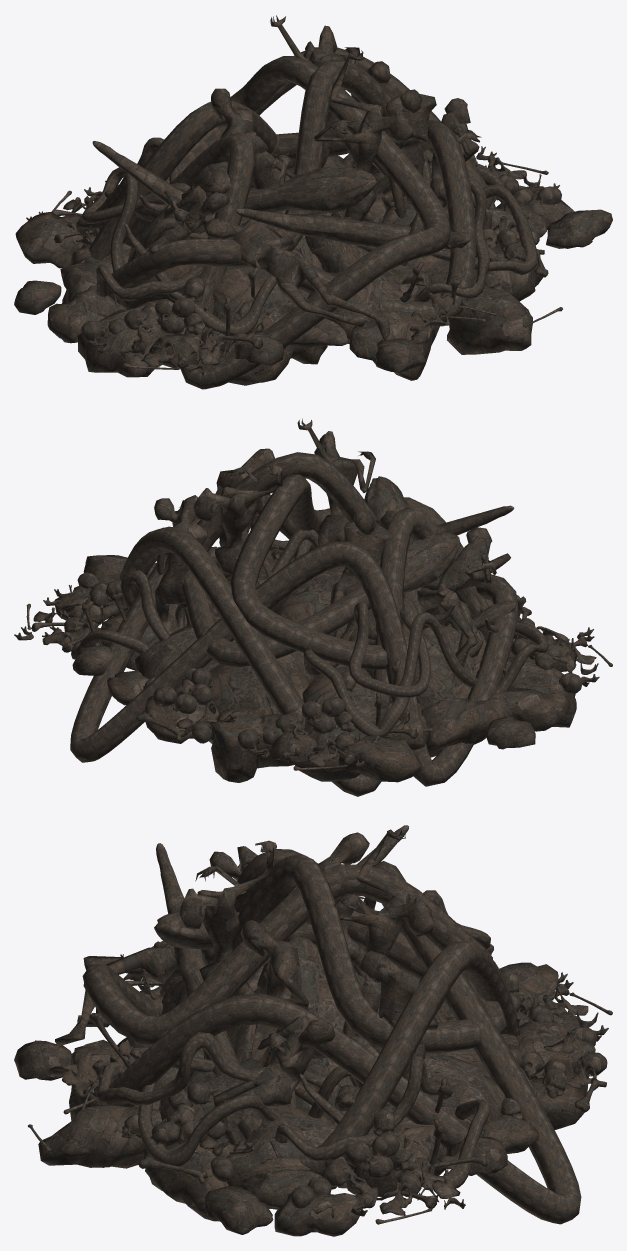
The model's file is aeg277_095.glb.
3 views of the same model, one above another, from view 1: azimuth 30°, elevation 25°; view 2: azimuth 150°, elevation 25°; view 3: azimuth 270°, elevation 25° (orthographic). The views are drawn at different scales.
Visible parts, largest first — view 1: mesh[0], mesh[2], mesh[1], mesh[3]; view 2: mesh[0], mesh[2], mesh[1], mesh[3]; view 3: mesh[0], mesh[2], mesh[1], mesh[3].
Part boxes in pixels (x1=…): mesh[0]: x1=62, y1=47, x2=537, y2=389; mesh[2]: x1=14, y1=155, x2=612, y2=385; mesh[1]: x1=127, y1=15, x2=492, y2=342; mesh[3]: x1=26, y1=146, x2=562, y2=375; mesh[0]: x1=70, y1=452, x2=548, y2=796; mesh[2]: x1=54, y1=555, x2=576, y2=782; mesh[1]: x1=154, y1=418, x2=510, y2=683; mesh[3]: x1=14, y1=544, x2=612, y2=770; mesh[0]: x1=82, y1=825, x2=581, y2=1224; mesh[2]: x1=14, y1=935, x2=595, y2=1236; mesh[1]: x1=55, y1=829, x2=446, y2=1175; mesh[3]: x1=28, y1=940, x2=612, y2=1224.
Size of the model in its own units: 5.86 by 2.98 by 4.98.
4 materials, 4 textured.
